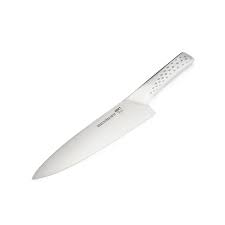knife: (30, 46, 200, 184)
